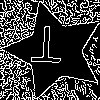T: (29, 25, 63, 72)
